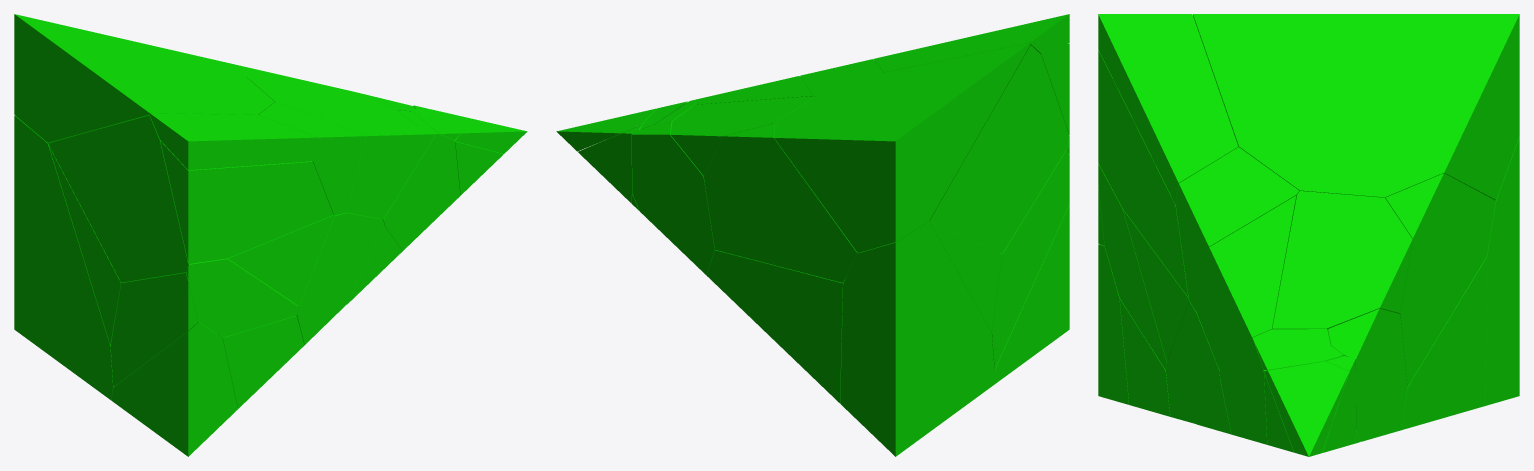
File: MainCharacterFragments2.fbx
3 renders of one model, left to right at view 1: azimuth 30°, elevation 25°; view 2: azimuth 150°, elevation 25°; view 3: azimuth 270°, elevation 25°, orthographic. The views are drawn at different scales.
Parts seen in each view (by area): view 1: Cone_cell.016, Cone_cell.002, Cone_cell.012, Cone_cell.017, Cone_cell.010, Cone_cell.015, Cone_cell.019, Cone_cell.023, Cone_cell.014, Cone_cell, Cone_cell.007, Cone_cell.020 (+7 smaller); view 2: Cone_cell.016, Cone_cell.002, Cone_cell.013, Cone_cell.012, Cone_cell.001, Cone_cell.006, Cone_cell.019, Cone_cell.010, Cone_cell.021, Cone_cell.015, Cone_cell.009, Cone_cell.024 (+4 smaller); view 3: Cone_cell.016, Cone_cell.015, Cone_cell.021, Cone_cell.013, Cone_cell.023, Cone_cell.020, Cone_cell.017, Cone_cell.001, Cone_cell.002, Cone_cell.006, Cone_cell.003, Cone_cell.007 (+8 smaller).
Part boxes in pixels (x1=…): Cone_cell.016: x1=14, y1=14, x2=274, y2=143; Cone_cell.002: x1=14, y1=115, x2=116, y2=399; Cone_cell.012: x1=48, y1=115, x2=188, y2=282; Cone_cell.017: x1=160, y1=140, x2=333, y2=263; Cone_cell.010: x1=111, y1=321, x2=237, y2=456; Cone_cell.015: x1=149, y1=113, x2=317, y2=170; Cone_cell.019: x1=110, y1=272, x2=198, y2=386; Cone_cell.023: x1=282, y1=103, x2=435, y2=219; Cone_cell.014: x1=296, y1=212, x2=384, y2=345; Cone_cell: x1=186, y1=258, x2=298, y2=337; Cone_cell.007: x1=382, y1=110, x2=460, y2=250; Cone_cell.020: x1=258, y1=102, x2=366, y2=215; Cone_cell.016: x1=774, y1=42, x2=1030, y2=252; Cone_cell.002: x1=840, y1=222, x2=994, y2=456; Cone_cell.013: x1=703, y1=123, x2=857, y2=282; Cone_cell.012: x1=928, y1=45, x2=1069, y2=253; Cone_cell.001: x1=706, y1=250, x2=844, y2=402; Cone_cell.006: x1=632, y1=121, x2=714, y2=275; Cone_cell.019: x1=991, y1=149, x2=1069, y2=369; Cone_cell.010: x1=992, y1=204, x2=1069, y2=385; Cone_cell.021: x1=670, y1=96, x2=815, y2=175; Cone_cell.015: x1=874, y1=14, x2=1069, y2=72; Cone_cell.009: x1=929, y1=222, x2=1002, y2=331; Cone_cell.024: x1=578, y1=124, x2=642, y2=202; Cone_cell.016: x1=1193, y1=14, x2=1519, y2=200; Cone_cell.015: x1=1098, y1=14, x2=1238, y2=204; Cone_cell.021: x1=1272, y1=191, x2=1412, y2=329; Cone_cell.013: x1=1385, y1=173, x2=1495, y2=386; Cone_cell.023: x1=1196, y1=195, x2=1296, y2=369; Cone_cell.020: x1=1176, y1=147, x2=1299, y2=311; Cone_cell.017: x1=1098, y1=50, x2=1188, y2=297; Cone_cell.001: x1=1402, y1=257, x2=1486, y2=429; Cone_cell.002: x1=1485, y1=137, x2=1519, y2=405; Cone_cell.006: x1=1328, y1=308, x2=1407, y2=441; Cone_cell.003: x1=1264, y1=361, x2=1349, y2=456; Cone_cell.007: x1=1219, y1=329, x2=1360, y2=444.
Bounding box in the file's own units: 141 × 200 × 141.
